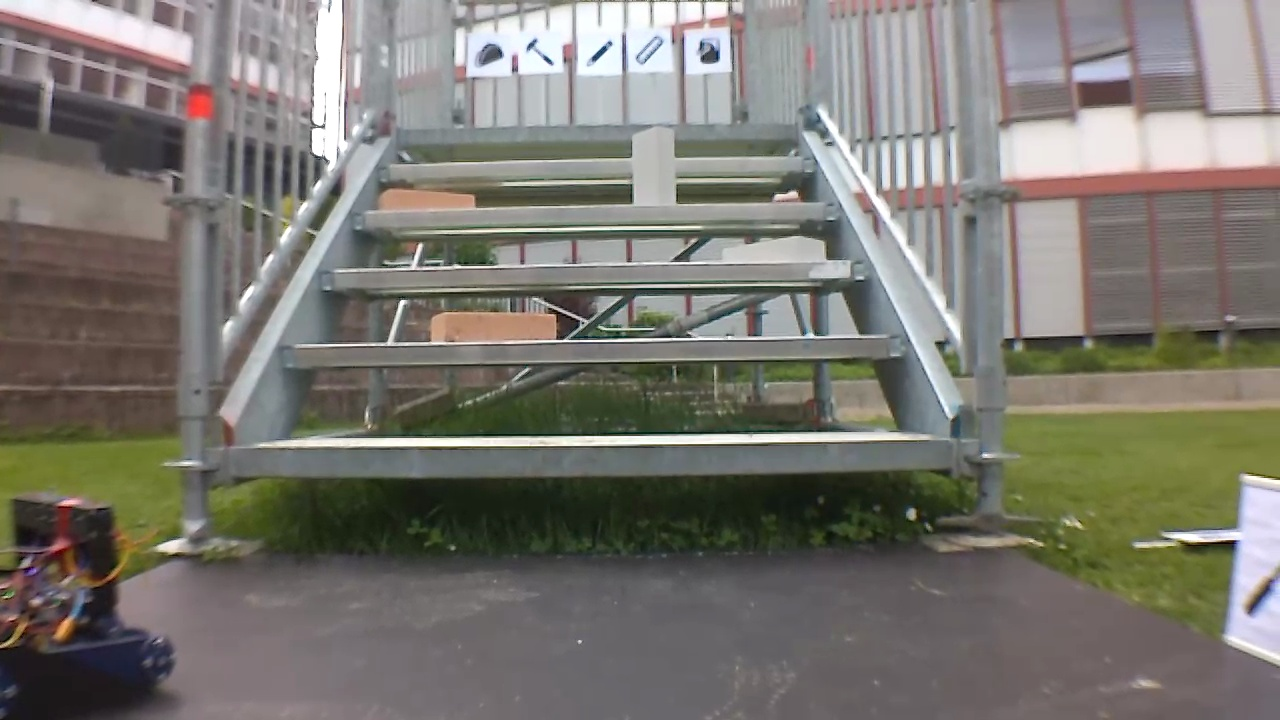brick: (429, 311, 554, 342), (632, 125, 674, 205), (379, 189, 474, 209)
bucket: (692, 33, 723, 66)
edge: (229, 438, 952, 474), (285, 335, 905, 364), (322, 261, 868, 286), (352, 203, 844, 225), (379, 158, 812, 178), (396, 123, 803, 141)
hammer: (522, 35, 561, 70)
pencil: (580, 35, 617, 69)
ruler: (633, 31, 670, 66)
stairs: (162, 3, 1022, 548)
steps: (217, 116, 960, 485)
taco: (471, 38, 507, 70)
